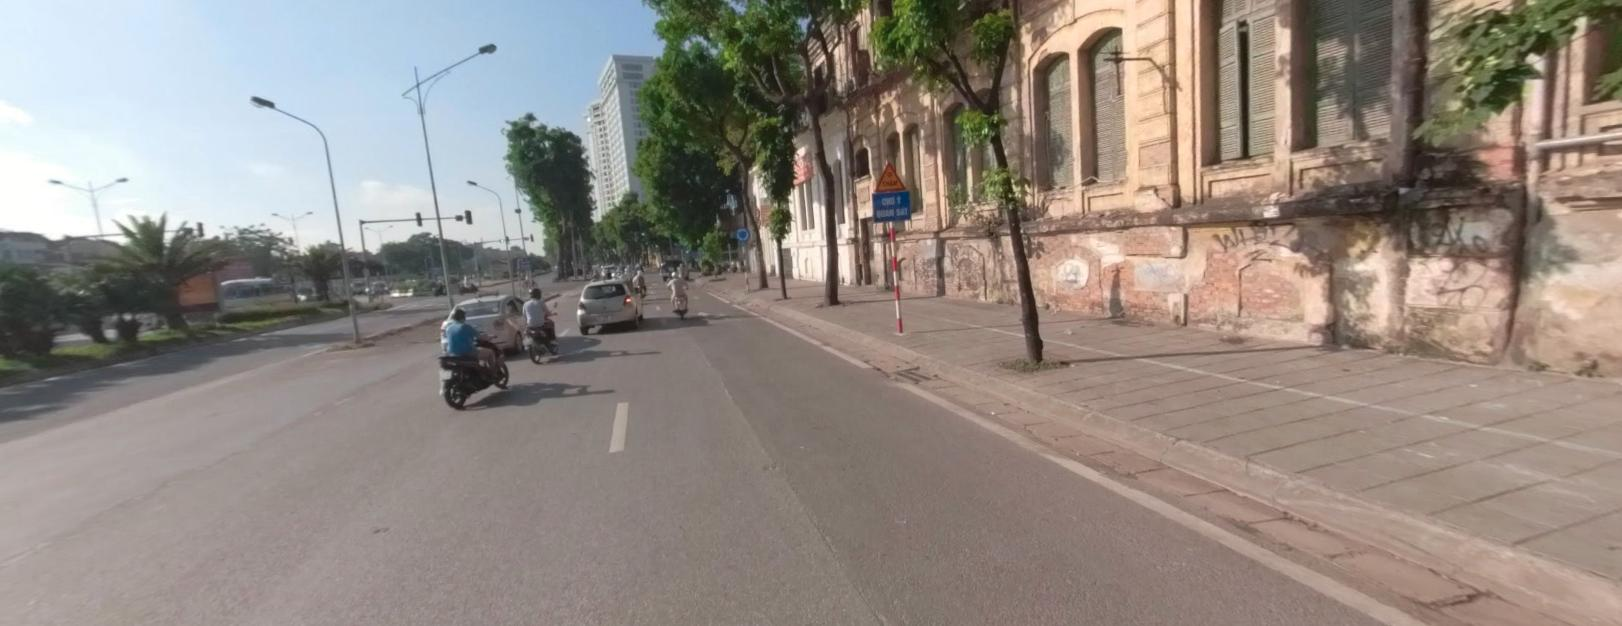Hieu lenh: (734, 225, 749, 239)
Nguy hiem: (873, 161, 906, 190)
